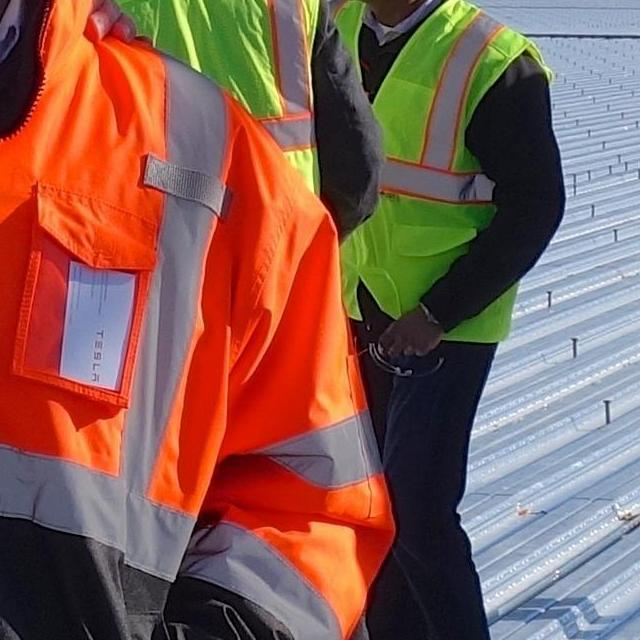Person: (0, 0, 383, 640), (55, 0, 421, 640), (305, 0, 567, 640)
Safety Vest: (0, 0, 392, 640), (325, 0, 534, 336), (90, 0, 360, 185)
